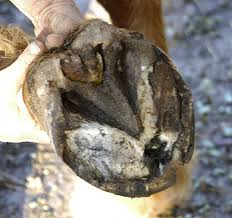horsesole: (45, 39, 196, 198)
